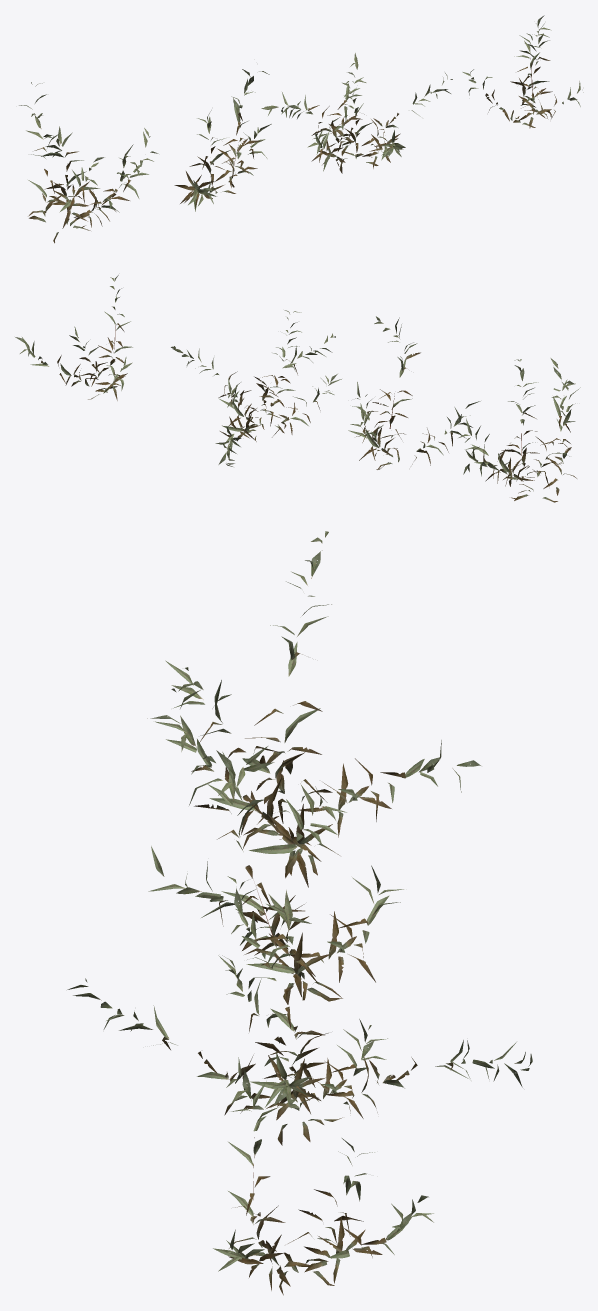
The model's file is shrub_02.glb.
3 renders of one model, top to bottom at view 1: azimuth 30°, elevation 25°; view 2: azimuth 150°, elevation 25°; view 3: azimuth 270°, elevation 25°, orthographic. The views are drawn at different scales.
Visible parts, largest first — view 1: shrub_02_c, shrub_02_a, shrub_02_b, shrub_02_d; view 2: shrub_02_c, shrub_02_a, shrub_02_b, shrub_02_d; view 3: shrub_02_a, shrub_02_c, shrub_02_b, shrub_02_d.
Boxes of the visible parts, x1,y1,x2,y2 form: shrub_02_c: [261, 53, 452, 173]; shrub_02_a: [19, 82, 158, 243]; shrub_02_b: [174, 69, 271, 211]; shrub_02_d: [462, 15, 583, 128]; shrub_02_c: [171, 310, 341, 466]; shrub_02_a: [458, 358, 580, 502]; shrub_02_b: [348, 316, 480, 469]; shrub_02_d: [15, 275, 132, 400]; shrub_02_a: [147, 531, 480, 887]; shrub_02_c: [67, 876, 532, 1145]; shrub_02_b: [148, 746, 403, 1004]; shrub_02_d: [213, 1057, 433, 1295].
Bounding box in the file's own units: 6.04 × 1.64 × 2.28.
Materials: 1 (1 with a texture image).
